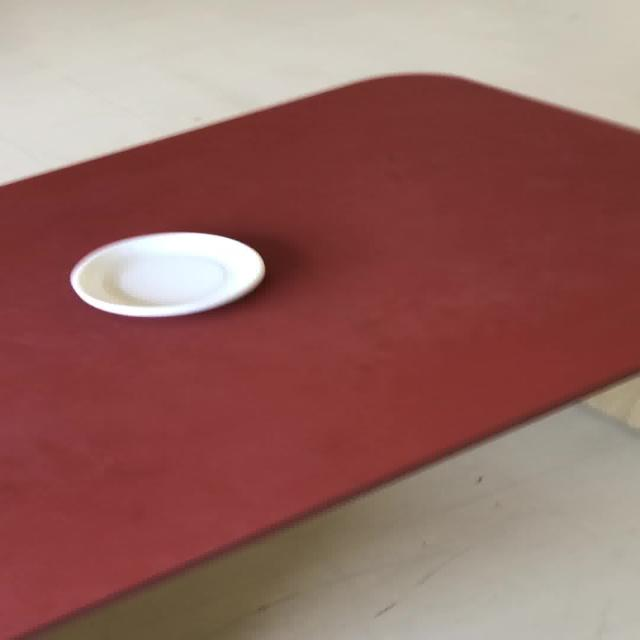plate: (68, 230, 265, 318)
